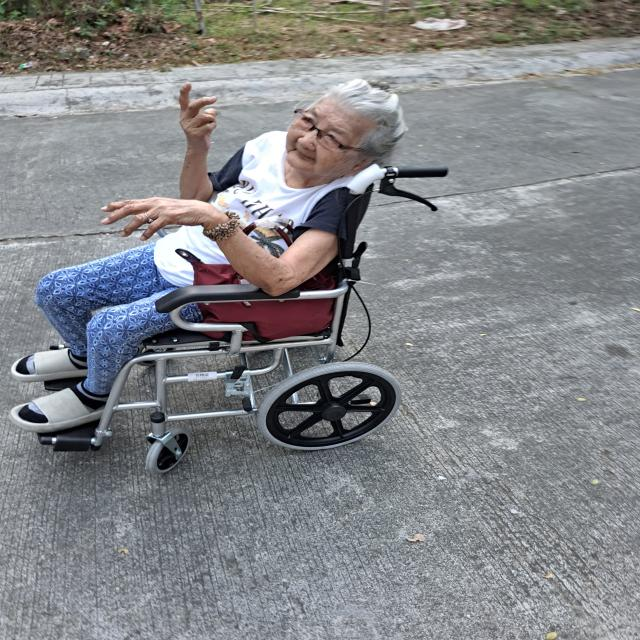wheelchairs: (38, 156, 450, 471)
